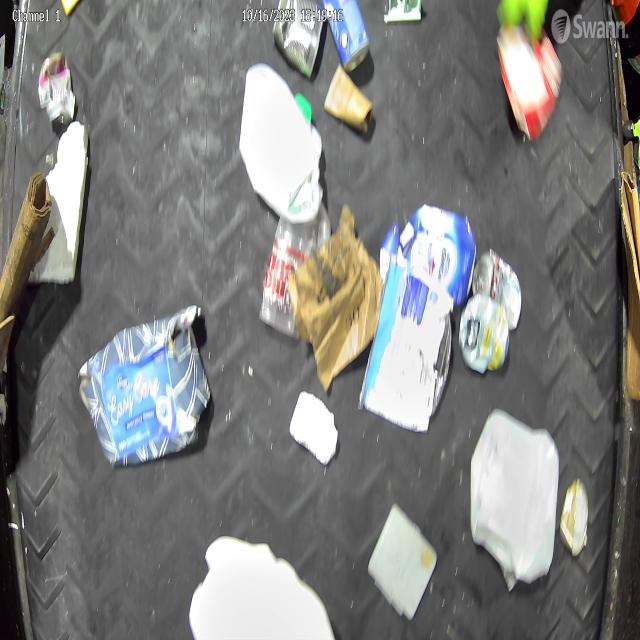can: (270, 0, 325, 78), (458, 293, 510, 375), (474, 252, 523, 329), (36, 49, 77, 130), (325, 0, 370, 71)
milk_jug: (469, 407, 562, 586), (236, 64, 322, 227)
